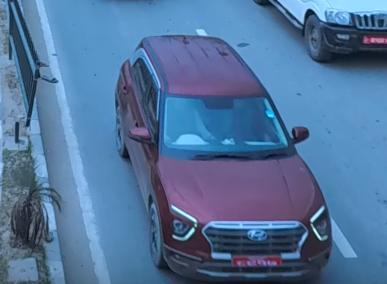car: (118, 30, 340, 284)
